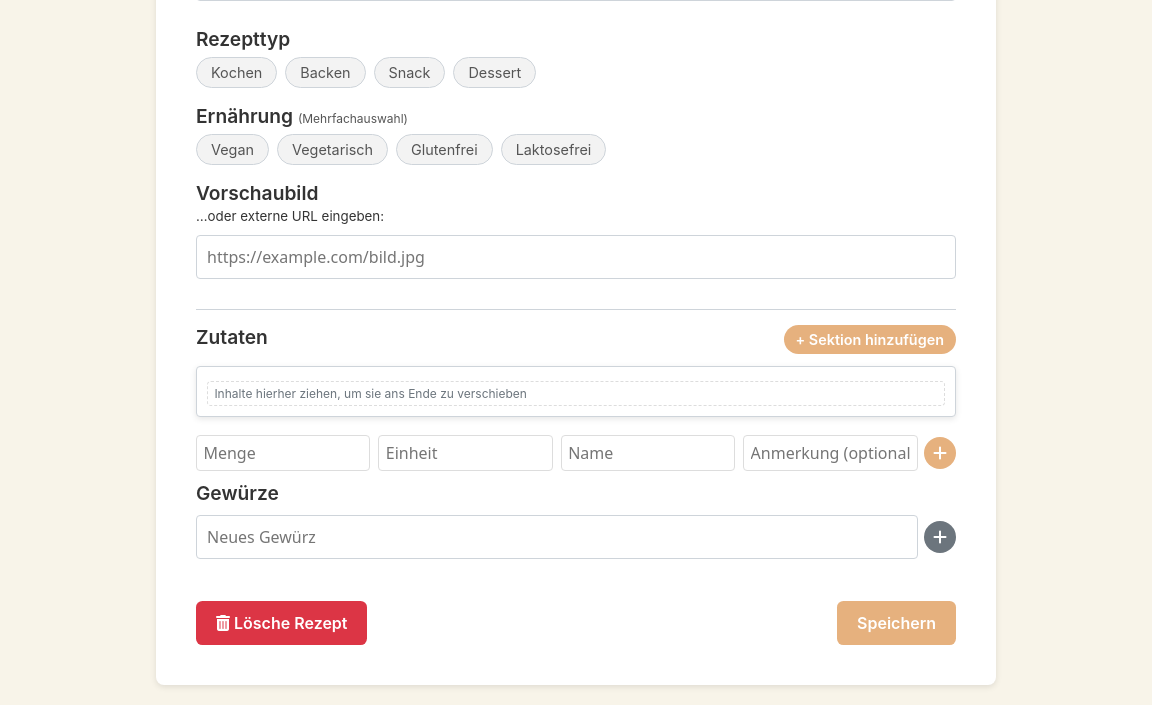
Test: RecipeFormBase › delete confirmation › clicking Abbrechen dismisses the confirmation
(page scrolled)
Click the button "Lösche Rezept". click: click(282, 623)
box: [196,601,368,645]
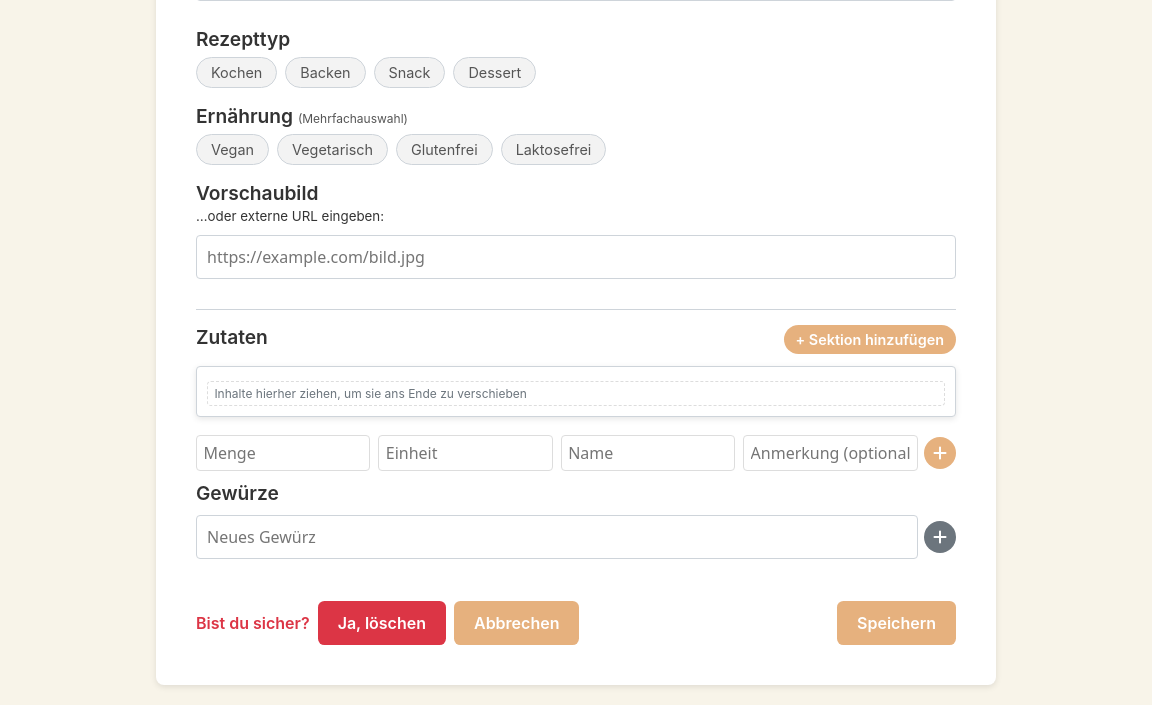
Click the button "Abbrechen". click: click(517, 623)
box: [454,601,579,645]
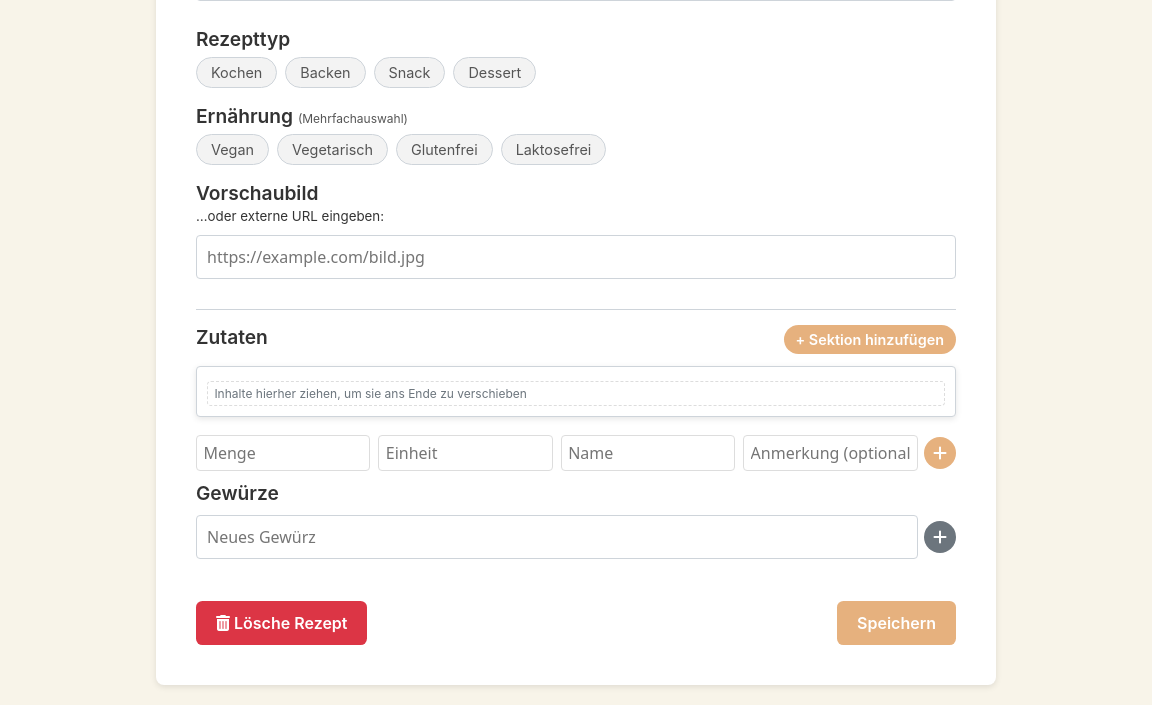
Now the text "Bist du sicher?" is gone
Now the button "Lösche Rezept" is shown, box [196,601,368,645]
